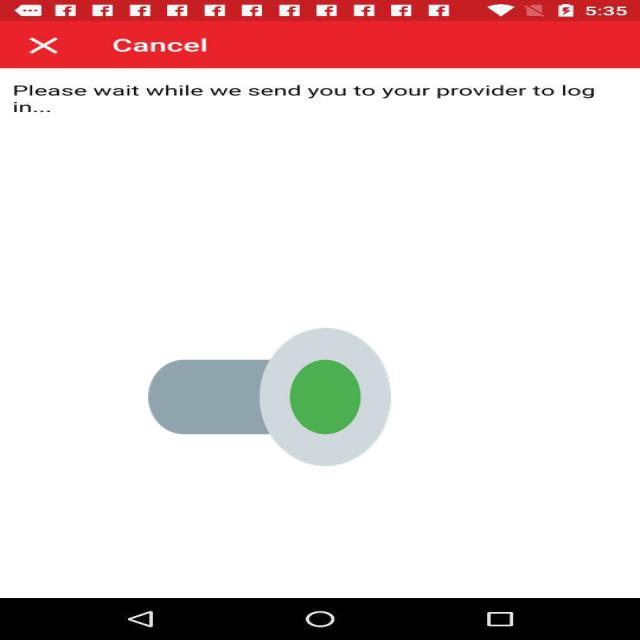social proof: (148, 269, 391, 525)
